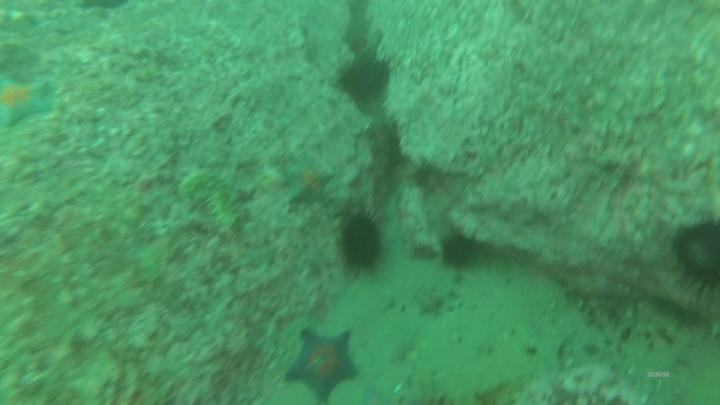echinus: (670, 213, 720, 304), (338, 205, 387, 278), (338, 60, 378, 104), (439, 233, 479, 272), (372, 57, 393, 89)
holothurian: (176, 169, 253, 244)
starfish: (285, 326, 364, 405), (1, 72, 57, 134), (280, 151, 336, 210), (412, 285, 450, 320)
